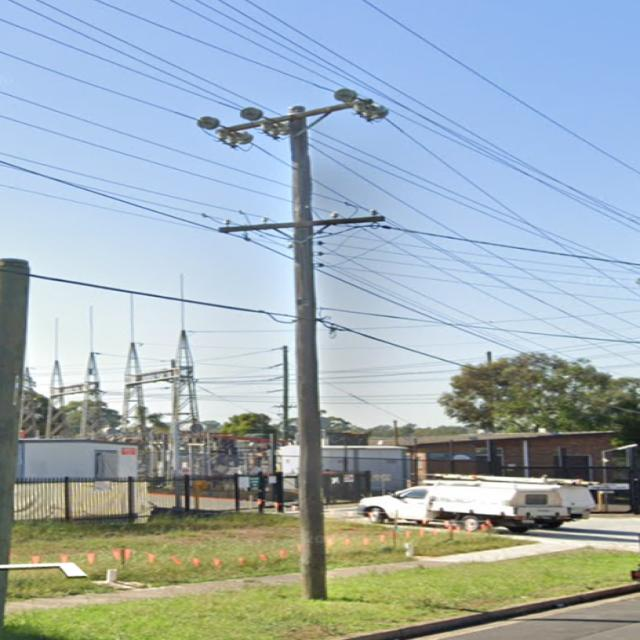HV-transmission: (197, 88, 392, 152)
crossarm: (214, 97, 361, 133), (218, 214, 385, 233)
timber-pole: (287, 104, 325, 600)
